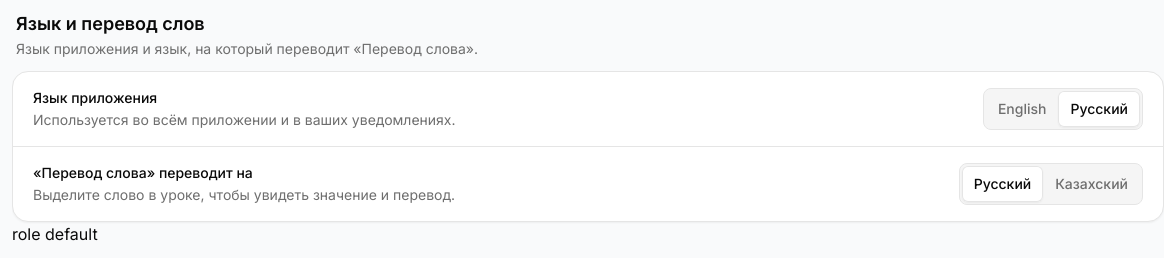
Test: Settings → App language › lets a curator choose English
Click the radio button labelled "English" at (1022, 109), box [986,91,1058,127]
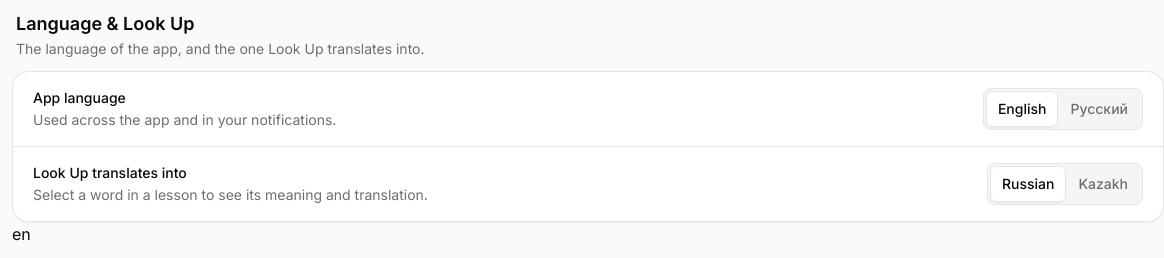
expect the text "Language & Look Up" is shown: met, box [16,13,194,34]
